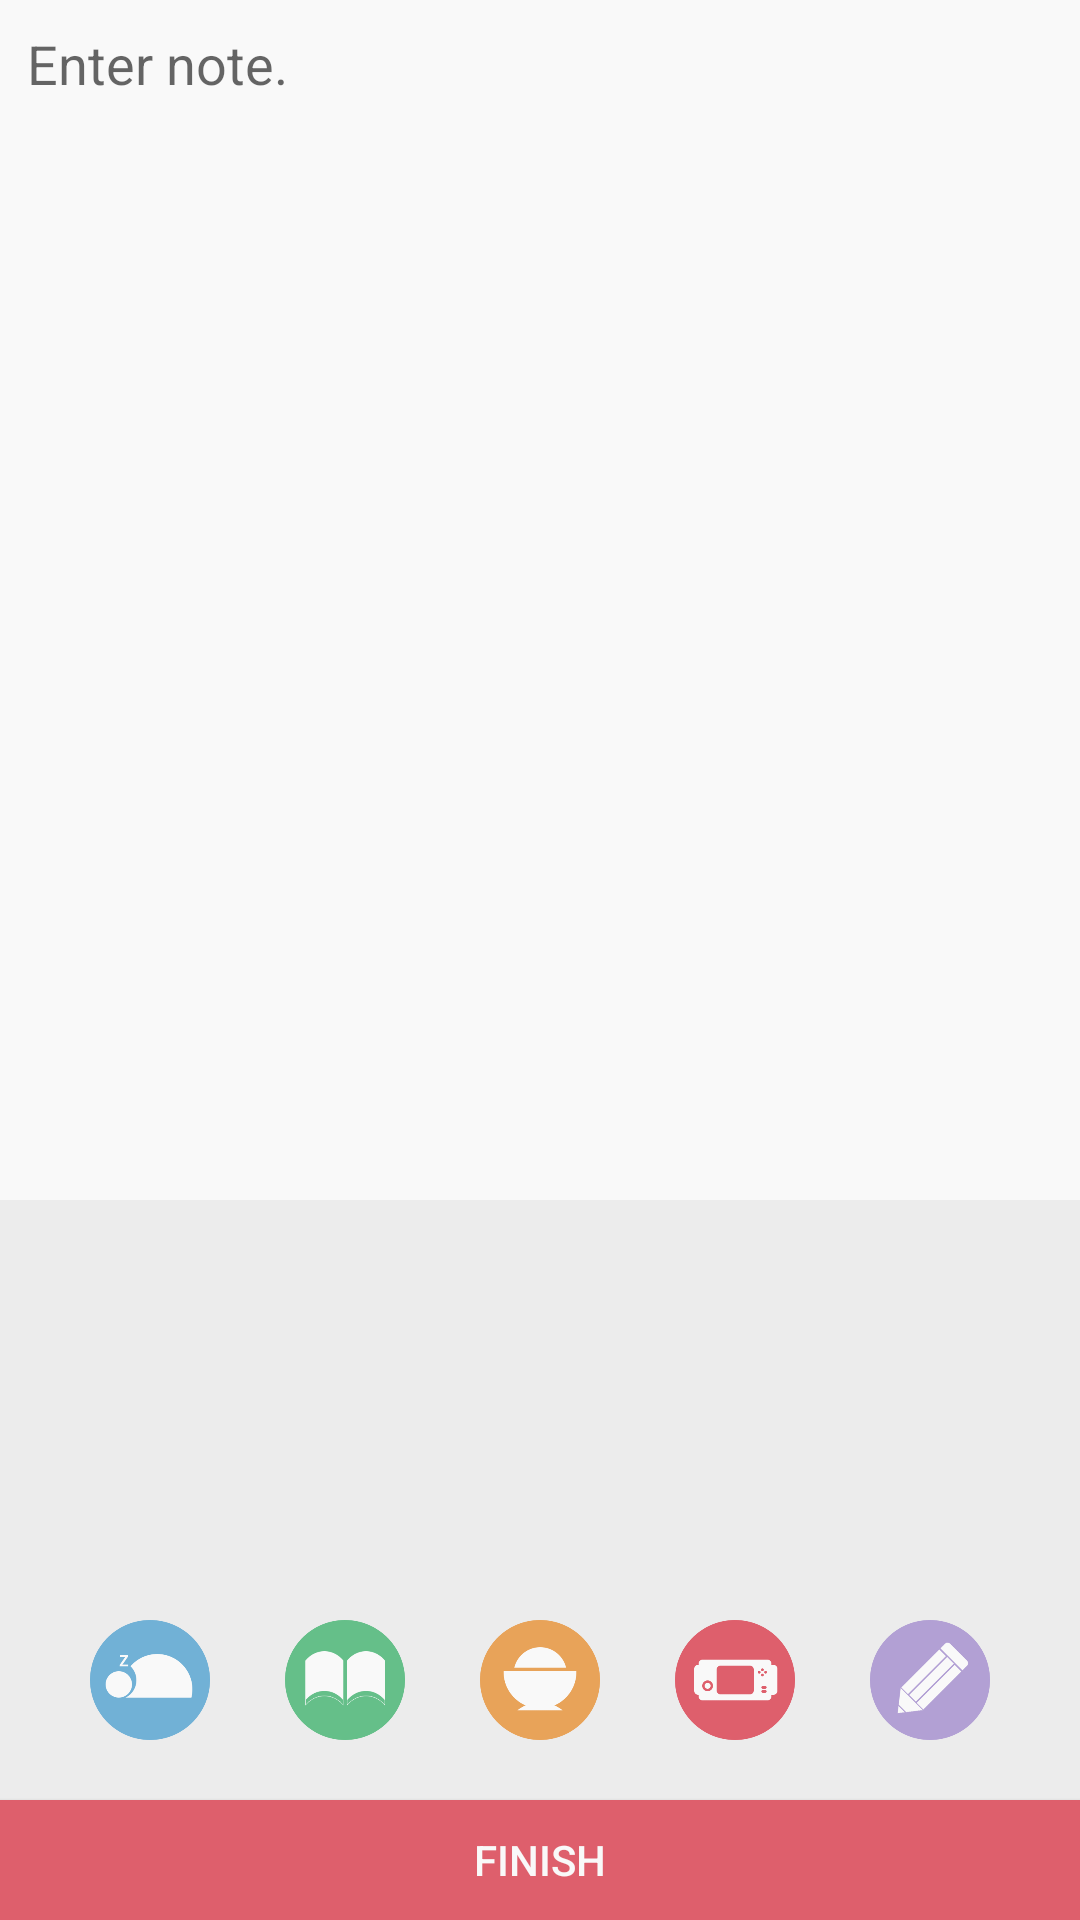

Point at icon controls on the screen. Image size 1080×1920, points as (x=x, y=y).
boring: (x=735, y=1680)
eat: (x=540, y=1680)
notes: (x=930, y=1680)
sleep: (x=150, y=1680)
study: (x=345, y=1680)
